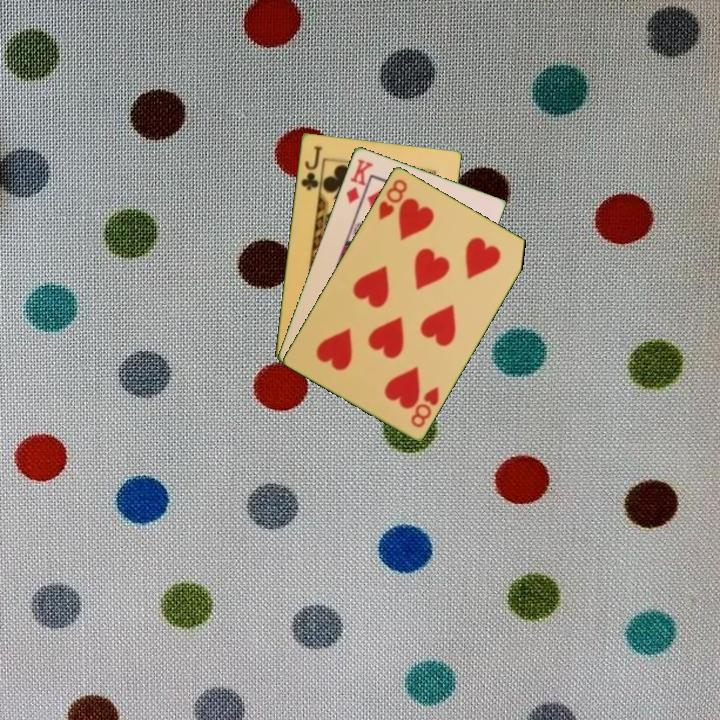8h: (375, 175, 410, 223), (407, 382, 442, 430)
Jc: (297, 142, 325, 193)
Kd: (342, 155, 376, 206)
